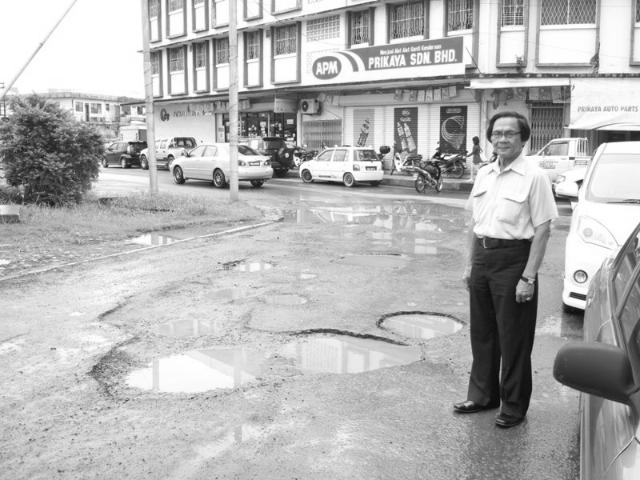Pothole: (112, 340, 276, 396), (276, 321, 426, 375), (374, 308, 468, 342), (138, 314, 228, 342), (328, 253, 416, 269), (196, 284, 262, 304), (262, 291, 308, 305), (222, 261, 274, 273), (294, 271, 320, 281)
